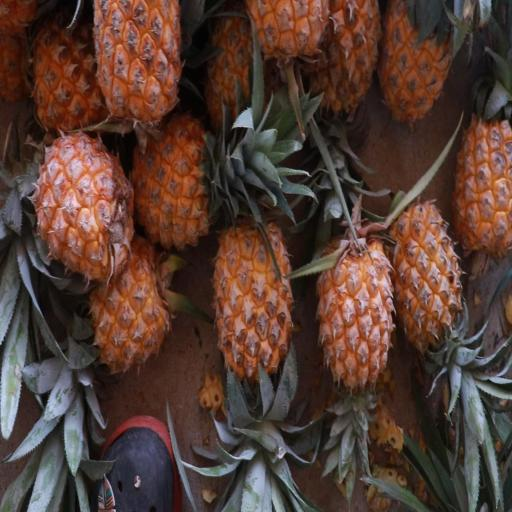Pineapple - v8 v1: (126, 106, 250, 254), (212, 206, 298, 416), (26, 125, 136, 289), (314, 225, 399, 409), (388, 194, 470, 372), (82, 224, 175, 380), (88, 0, 186, 139), (451, 75, 512, 264), (375, 5, 458, 132)
